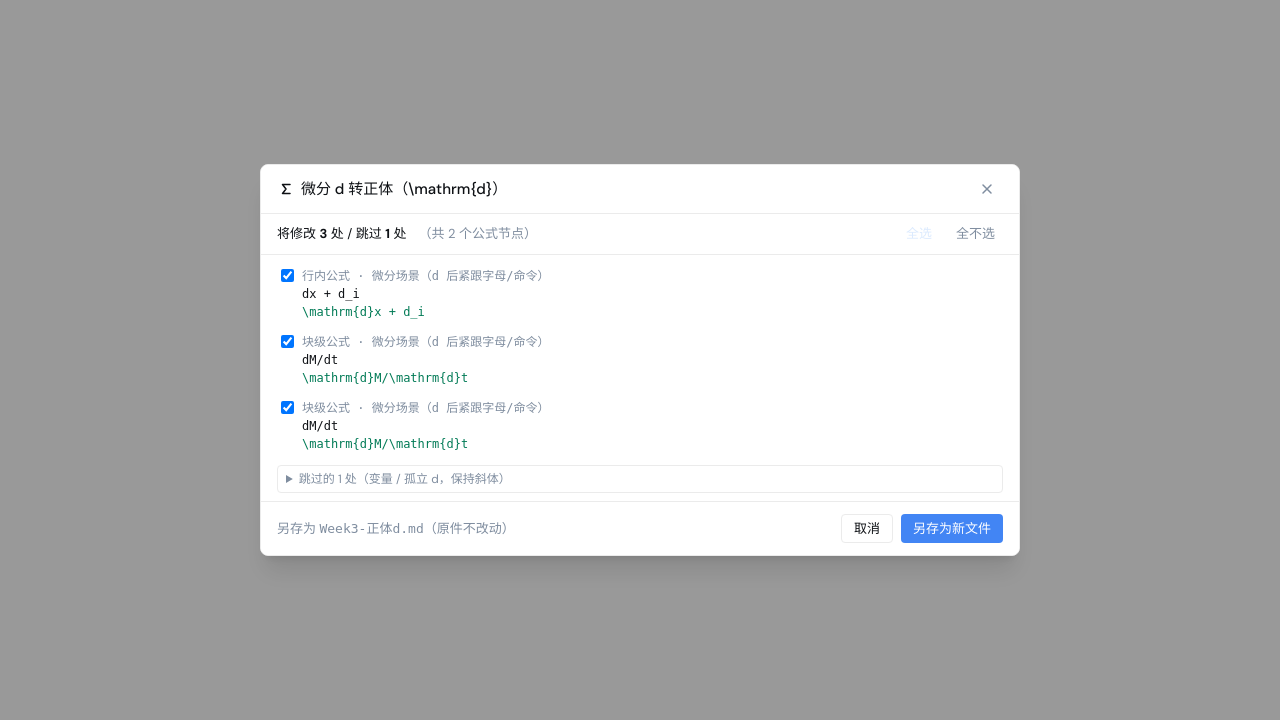
Test: task-74 对话框：预览与勾选 › 全不选后计数归零、保存被禁用
Click the button "全不选" at (976, 234), box [948,222,1003,246]
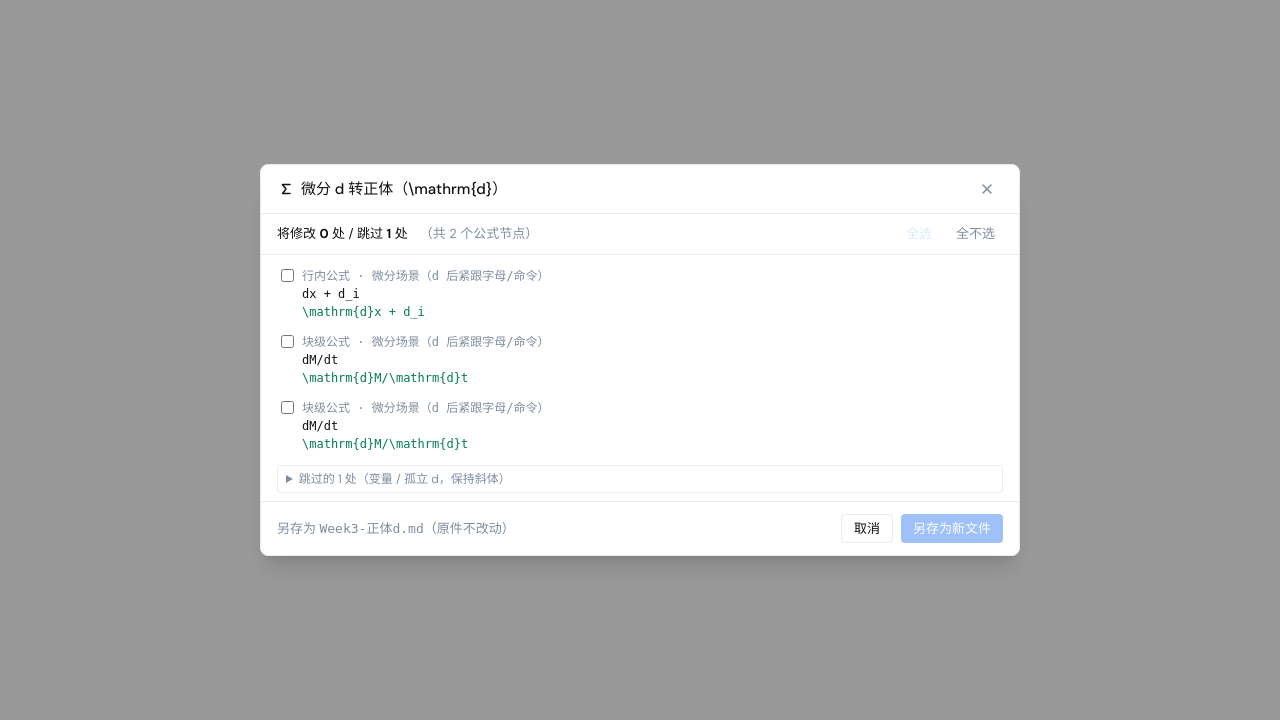
Result: the element showing "将修改 0 处 / 跳过 1 处" is shown at [277,224,408,244]
Result: the button "另存为新文件" is disabled at [901,514,1003,543]
